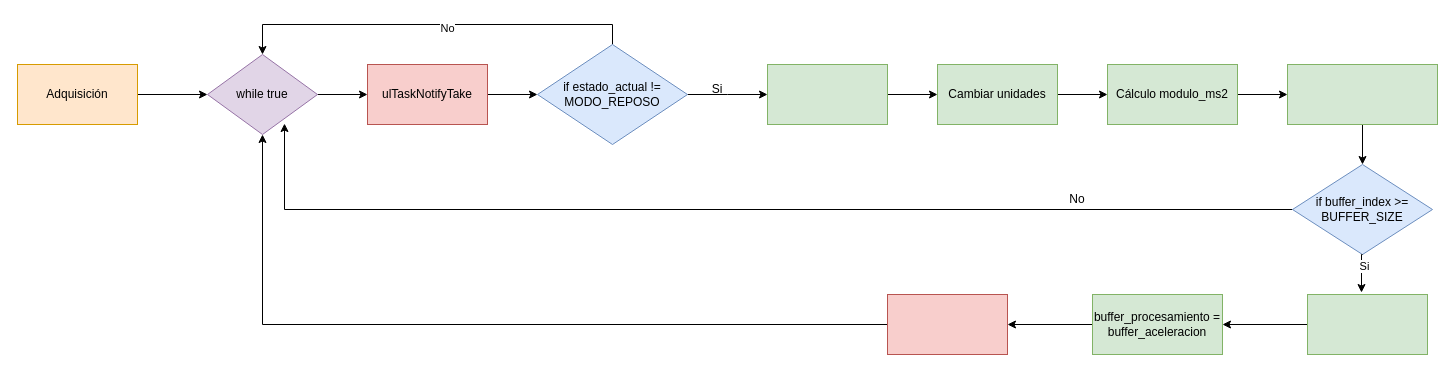
Some shapes in this 1455 by 372 pixel diagram are drawn without their labels. The centre of each missing label's shape, as x and y in pixels:
buffer_index=0: point (1367, 324)
Guardar modulo_ms2 en buffer_aceleracion[idx++]: point (1362, 94)
Obtener mediciones: point (827, 94)
xTaskNotifyGive (Procesamiento): point (947, 324)
